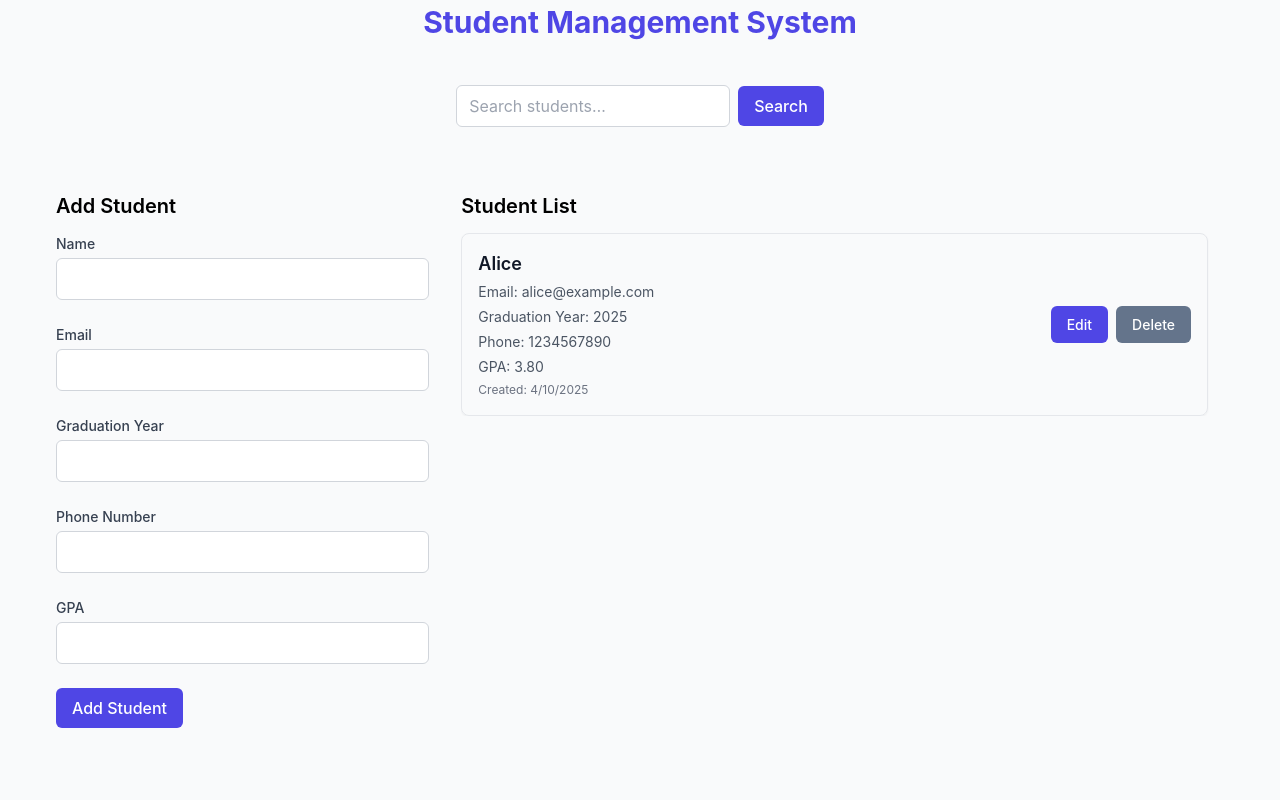
HomePage › handles form submission error and shows message
Step 1. Type "Bad" into the field labelled "Name" → point(243, 279), box [56,258,429,300]
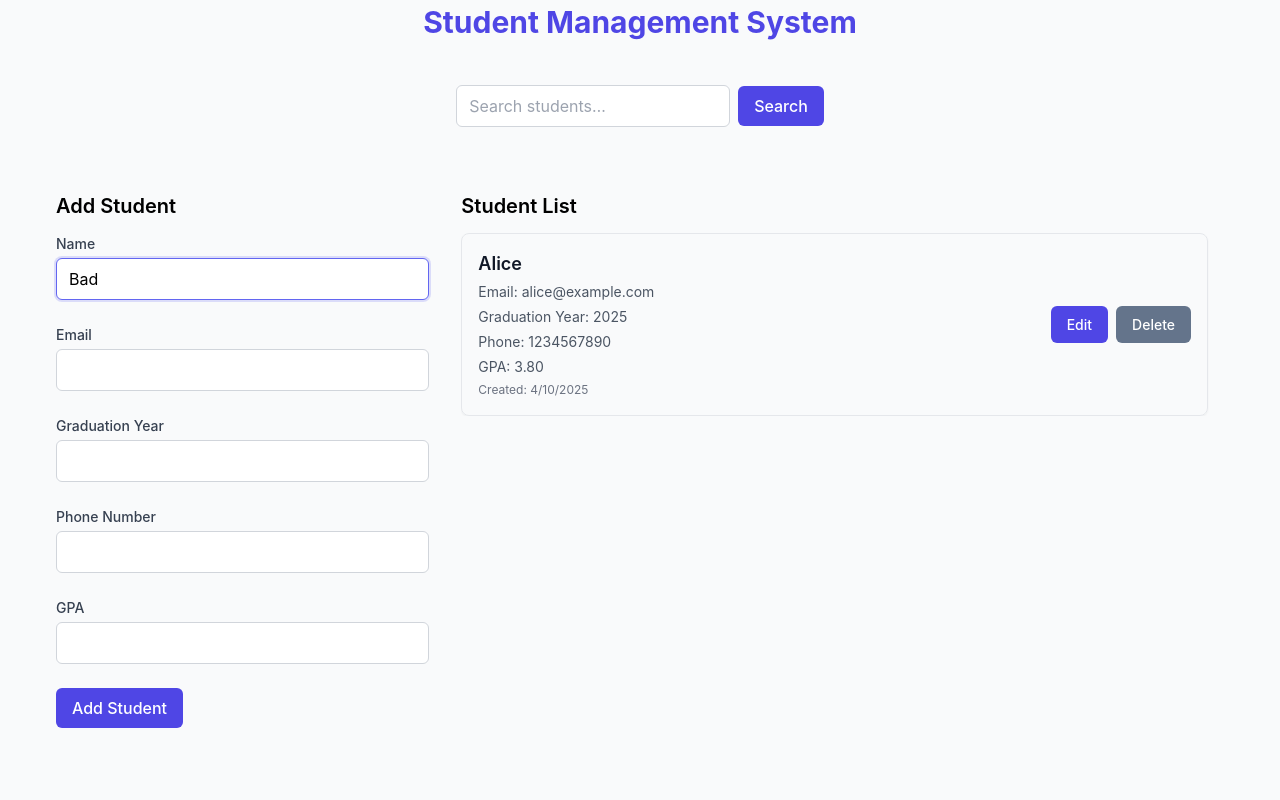
Step 2. Type "fail@example.com" into the field labelled "Email" → point(243, 370), box [56,349,429,391]
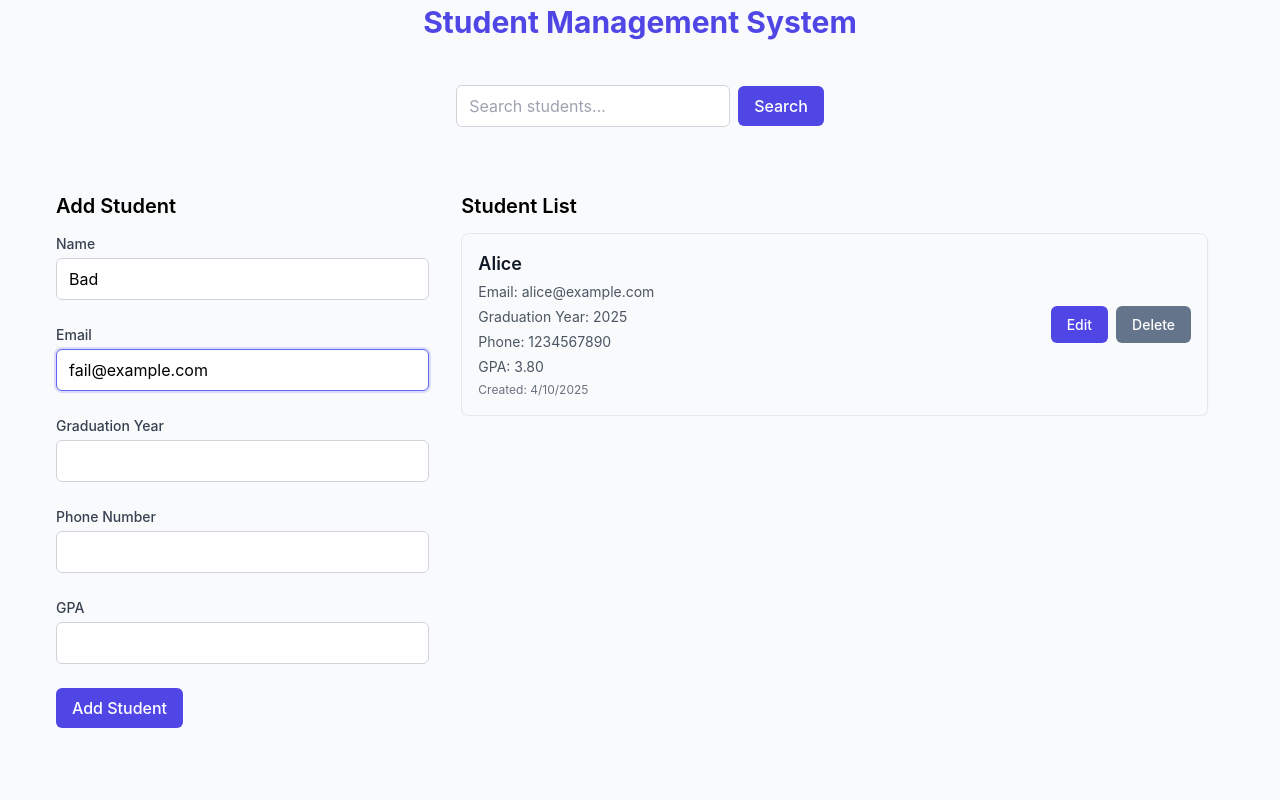
Step 3. Click the button "Add Student" → point(120, 708), box [56,688,183,728]
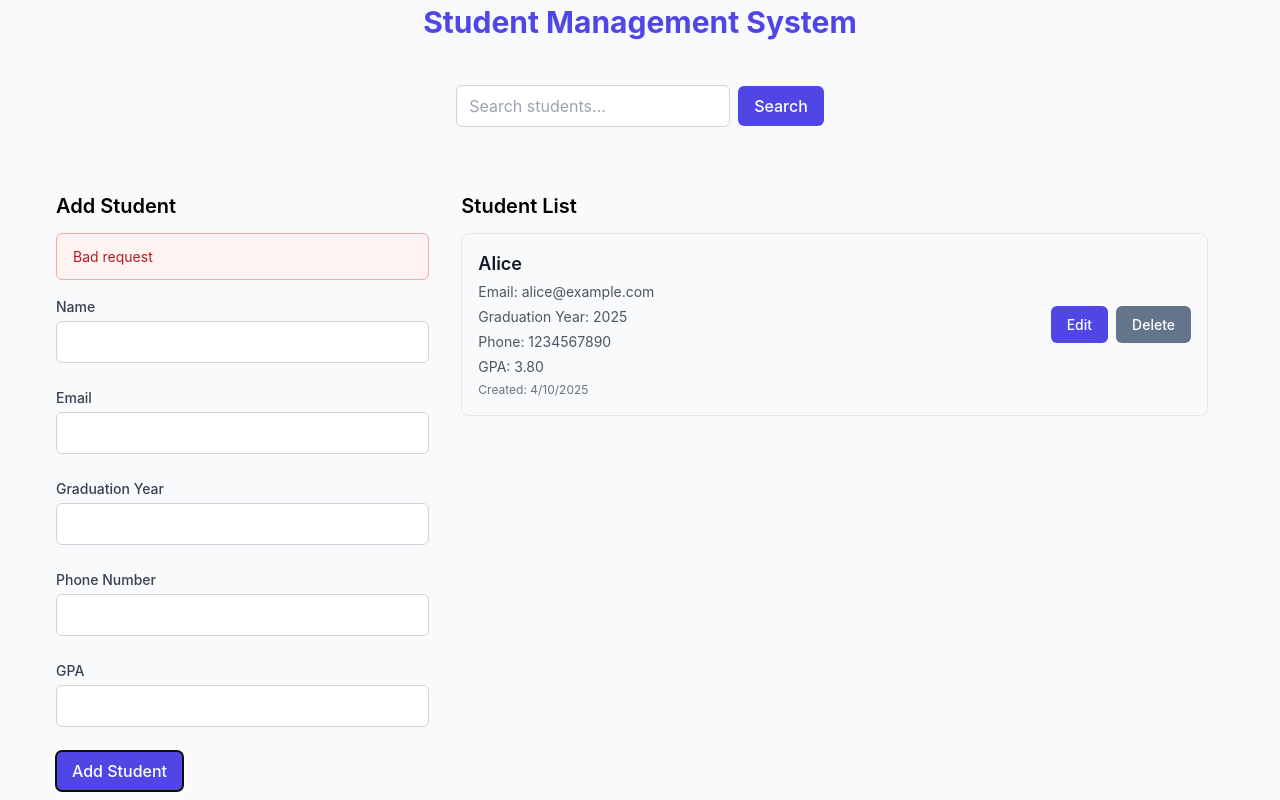
Expected: the text "Bad request" is shown, [56,233,429,280]
